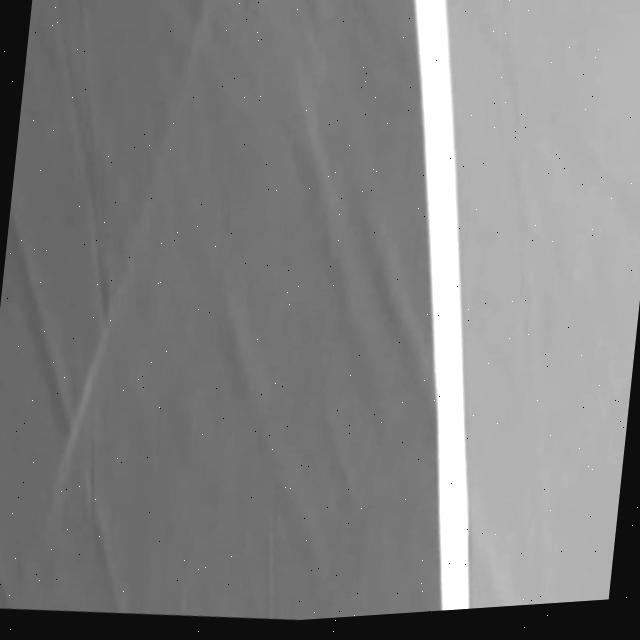right: (413, 0, 468, 611)
